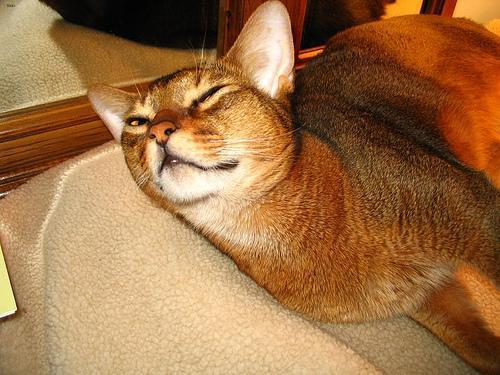cat: (86, 0, 500, 375)
